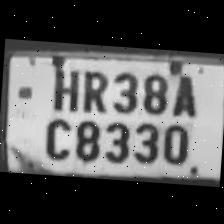0: (157, 117, 191, 164)
3: (106, 64, 139, 112), (128, 116, 160, 163), (99, 114, 130, 162)
8: (136, 66, 169, 114), (72, 112, 102, 162)
A: (166, 67, 202, 117)
C: (38, 110, 74, 160)
H: (44, 59, 81, 112)
R: (76, 64, 109, 111)
